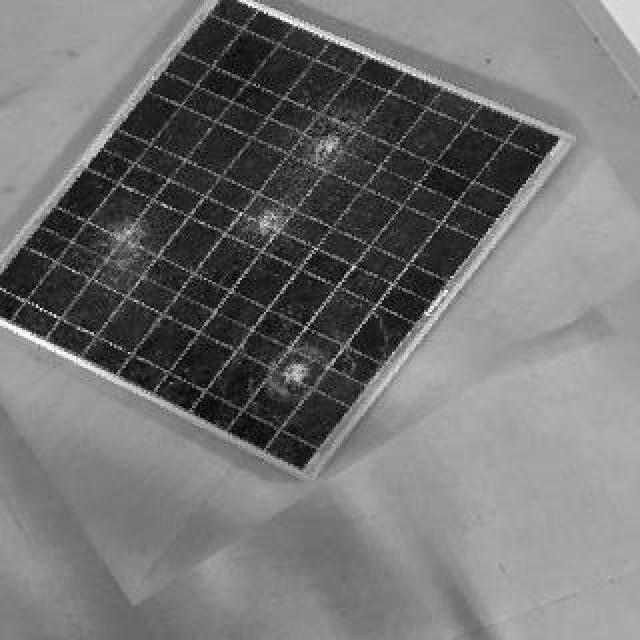Physical-damage: (235, 183, 311, 263), (92, 200, 163, 284), (261, 333, 337, 411), (289, 119, 371, 183)
